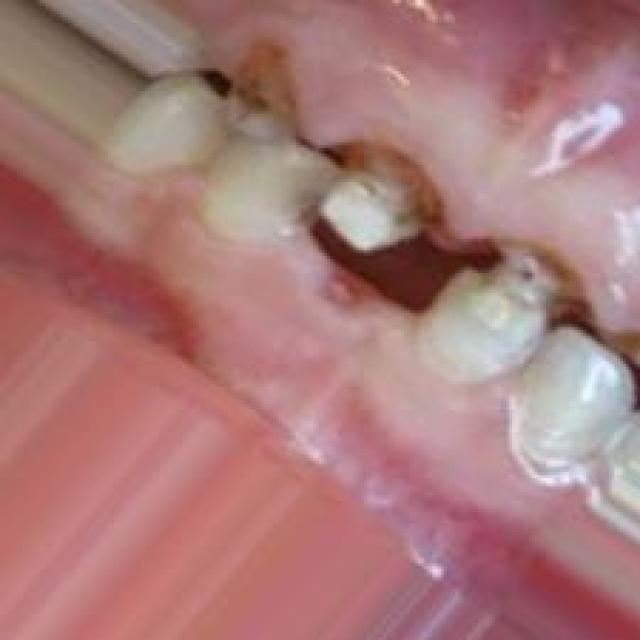caries: (441, 210, 604, 355), (308, 123, 451, 264), (211, 34, 317, 151)
